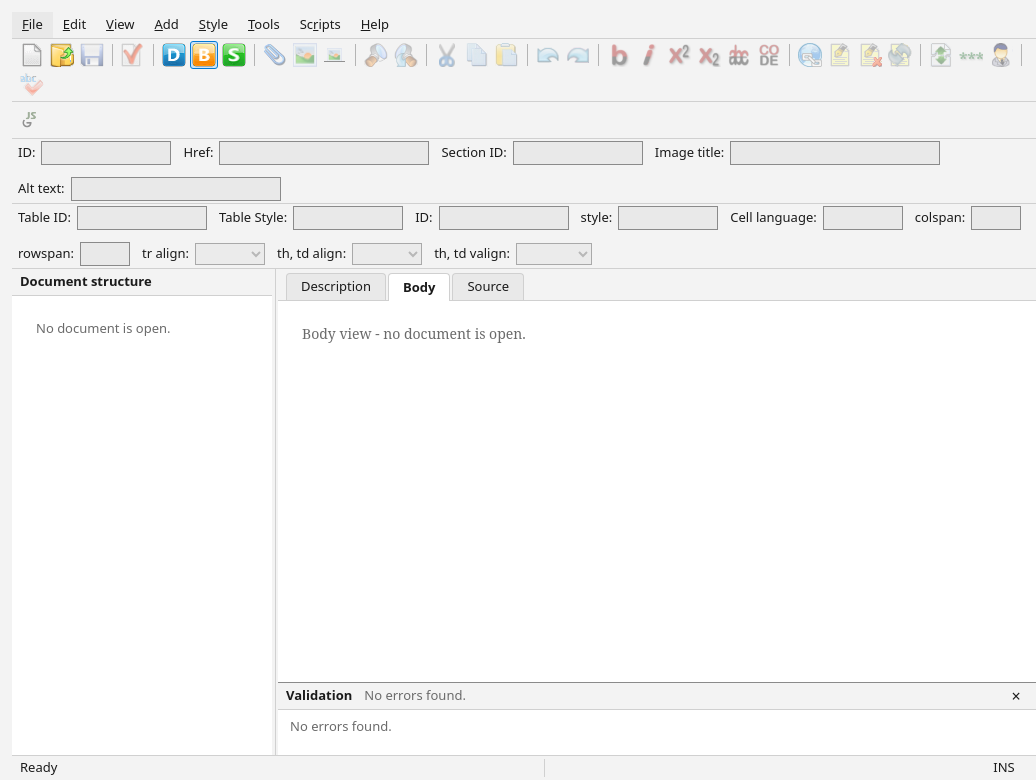
Scenario: ValidationPanel (T053) › shows "No errors found." for a clean report and is docked in the shell by the store
The image size is (1036, 780).
expect the element with test id "validation-panel" is shown: met, box x1=278 y1=682 x2=1035 y2=755
expect the text with test id "validation-empty" reads "No errors found.": met, box x1=290 y1=717 x2=392 y2=735
What coordinates should you click on to do the following:
click the button with test id "validation-close"
I would click on:
 (1016, 696)
Its box is x1=1004 y1=686 x2=1028 y2=706.
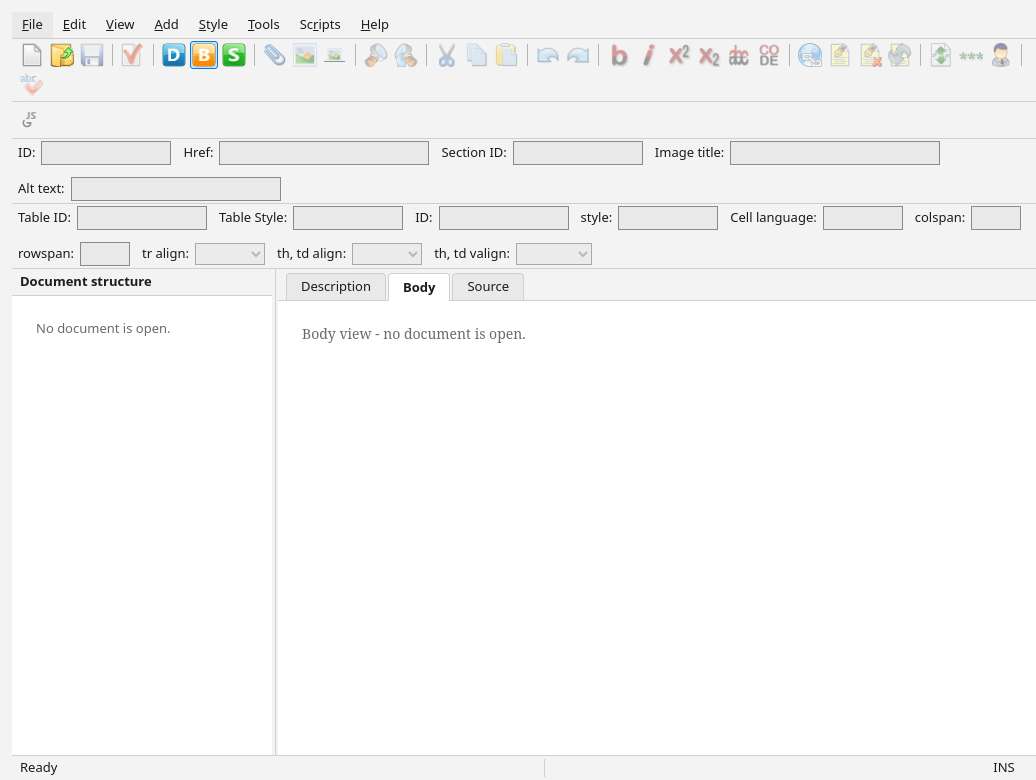
expect the element with test id "validation-panel" is gone: met
